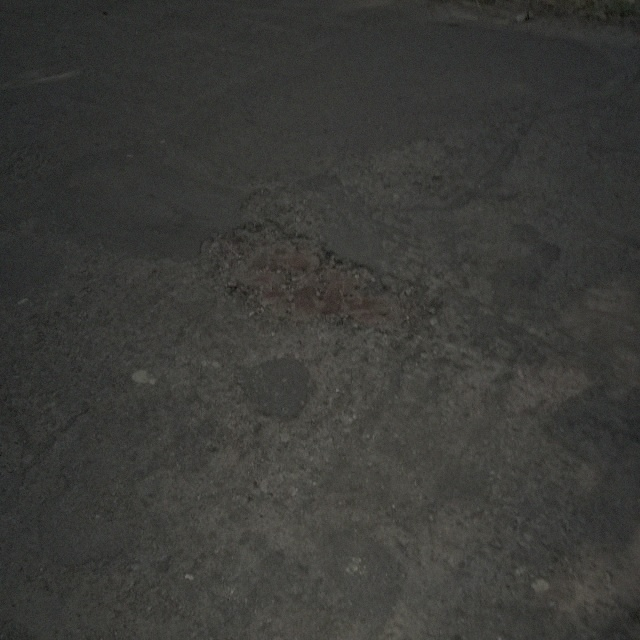pothole: (196, 218, 426, 342)
